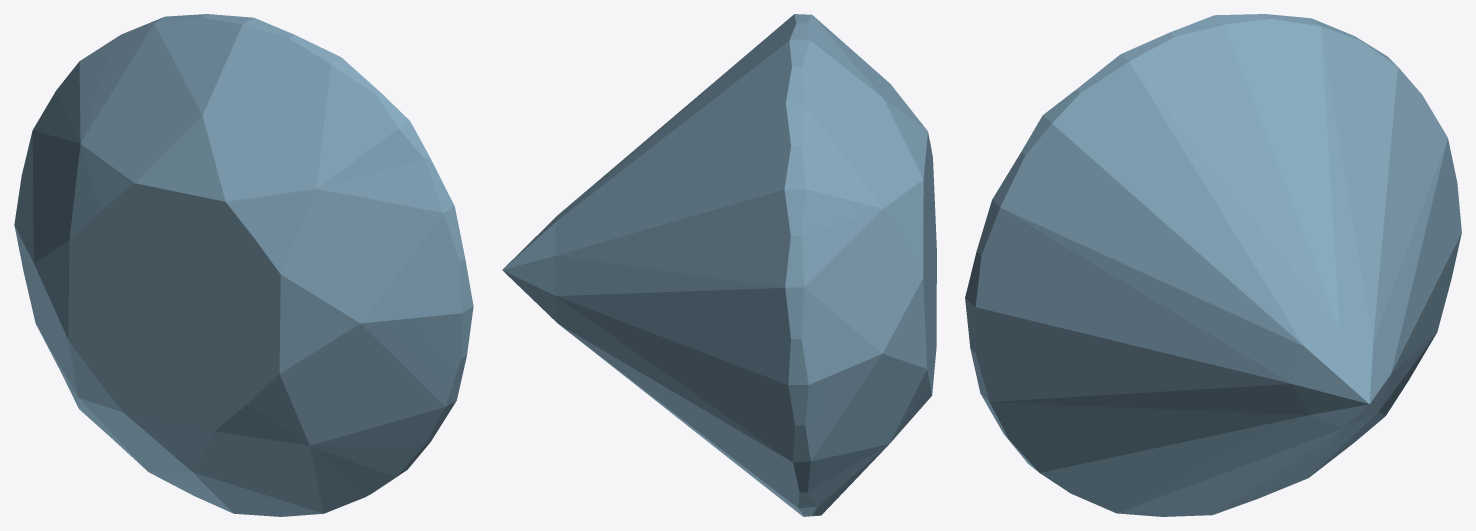
File: BL4_8shapes_Round_Classic_Stone.001 3.glb
3 renders of one model, left to right at view 1: azimuth 30°, elevation 25°; view 2: azimuth 150°, elevation 25°; view 3: azimuth 270°, elevation 25°, orthographic. The views are drawn at different scales.
Parts seen in each view (by area): view 1: BL4_8shapes_Round_Classic_Stone.001; view 2: BL4_8shapes_Round_Classic_Stone.001; view 3: BL4_8shapes_Round_Classic_Stone.001.
Boxes of the visible parts, x1,y1,x2,y2 form: BL4_8shapes_Round_Classic_Stone.001: (14, 14, 473, 516); BL4_8shapes_Round_Classic_Stone.001: (502, 14, 936, 516); BL4_8shapes_Round_Classic_Stone.001: (965, 14, 1461, 516).
Bounding box in the file's own units: 0.4524 × 0.5171 × 0.4669.
